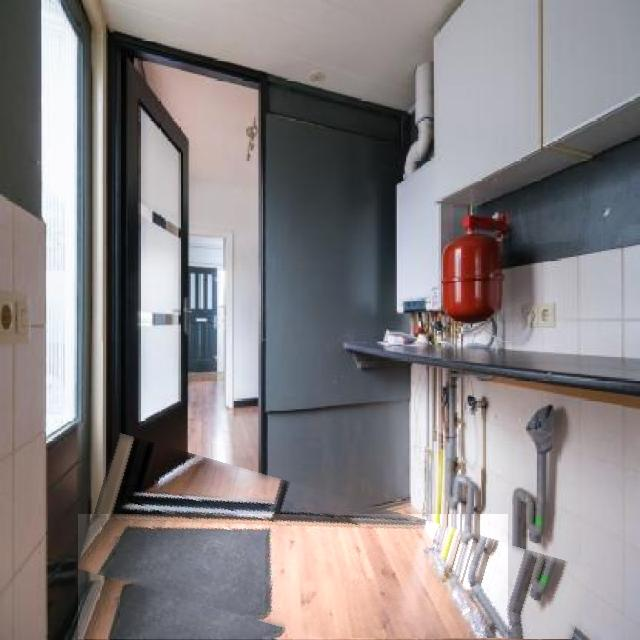floor: (79, 515, 484, 639), (487, 634, 508, 639)
